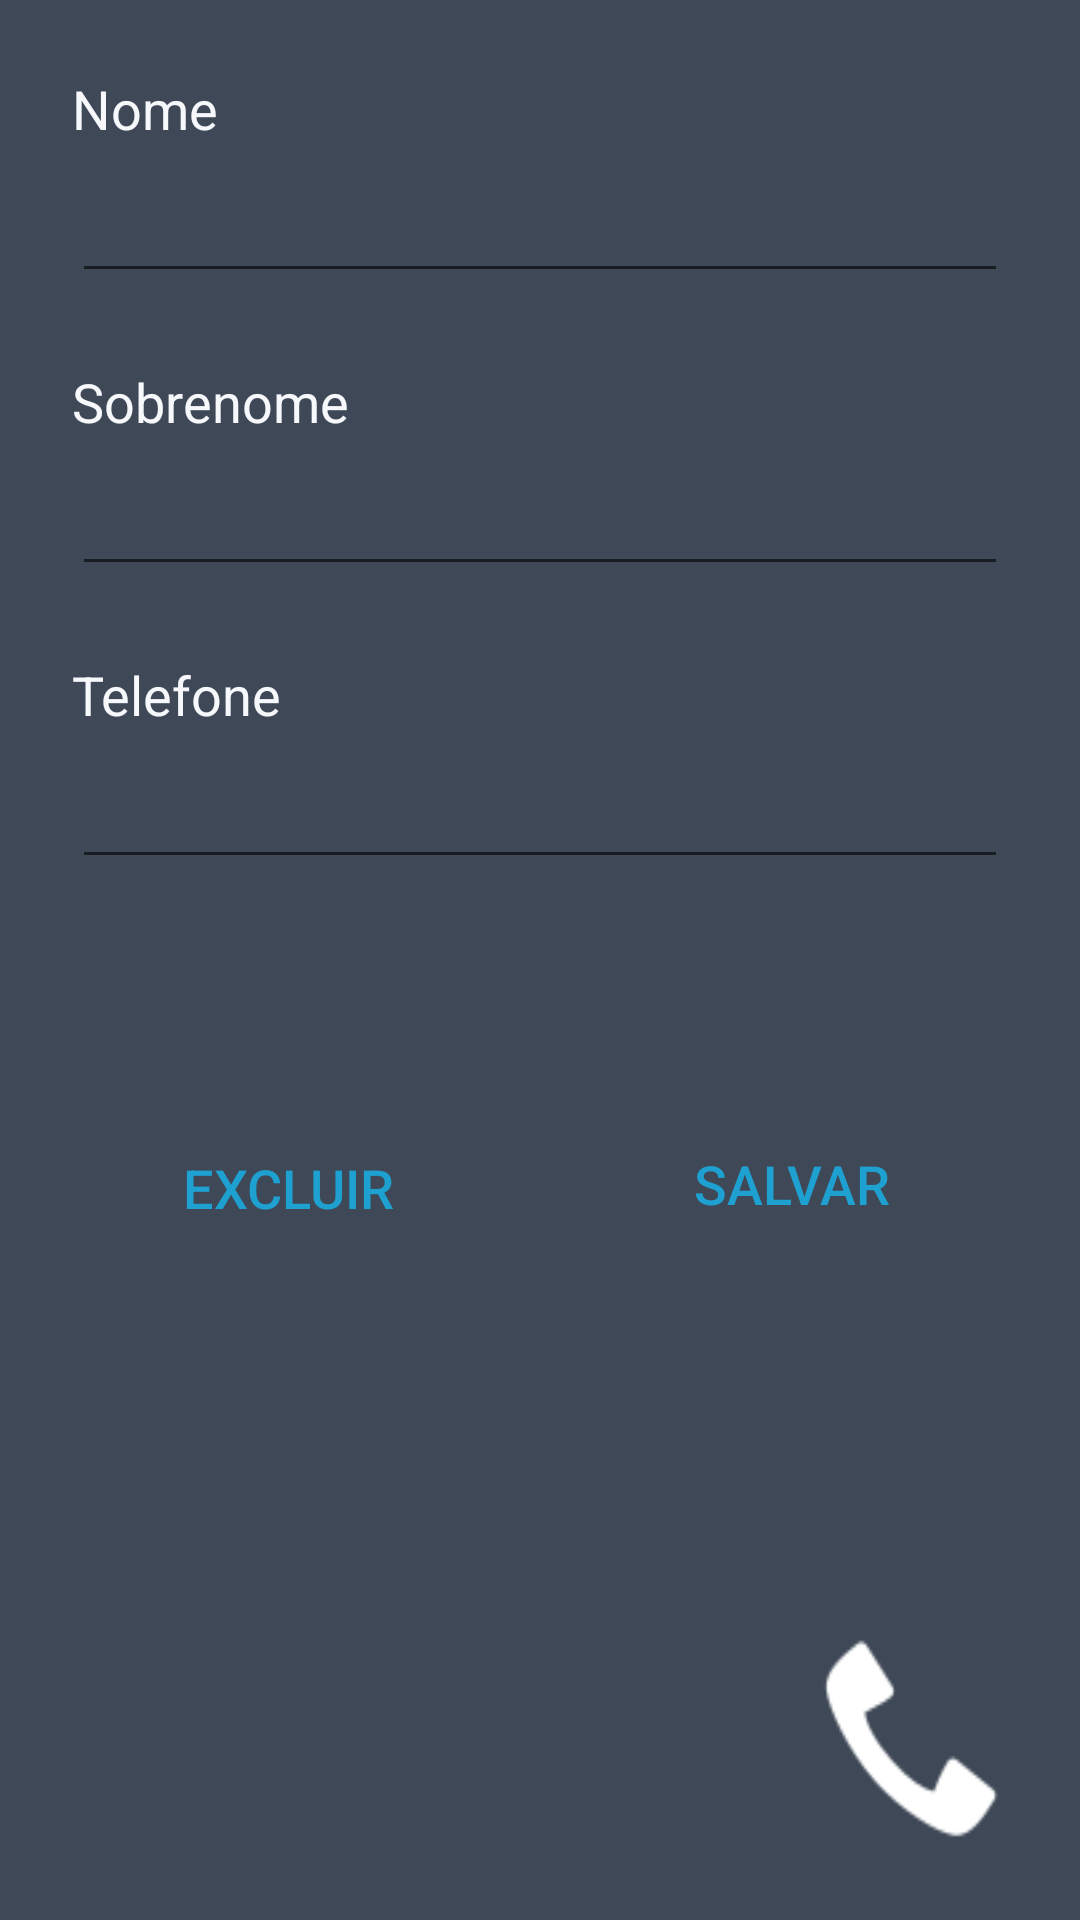

Locate icon controls on the screen. Image size 1080*1920, boxes as [left=x1, top=y1, right=x2, bottom=y2].
phone call: [left=825, top=1640, right=997, bottom=1837]
